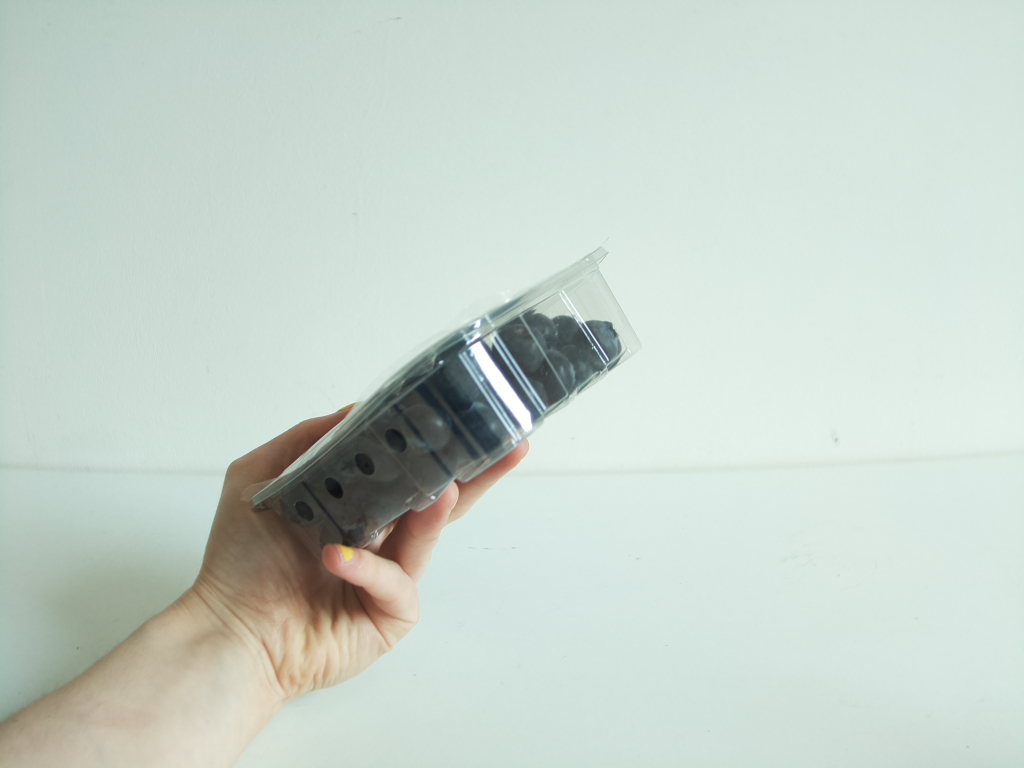soft-fruit: (261, 247, 649, 563)
